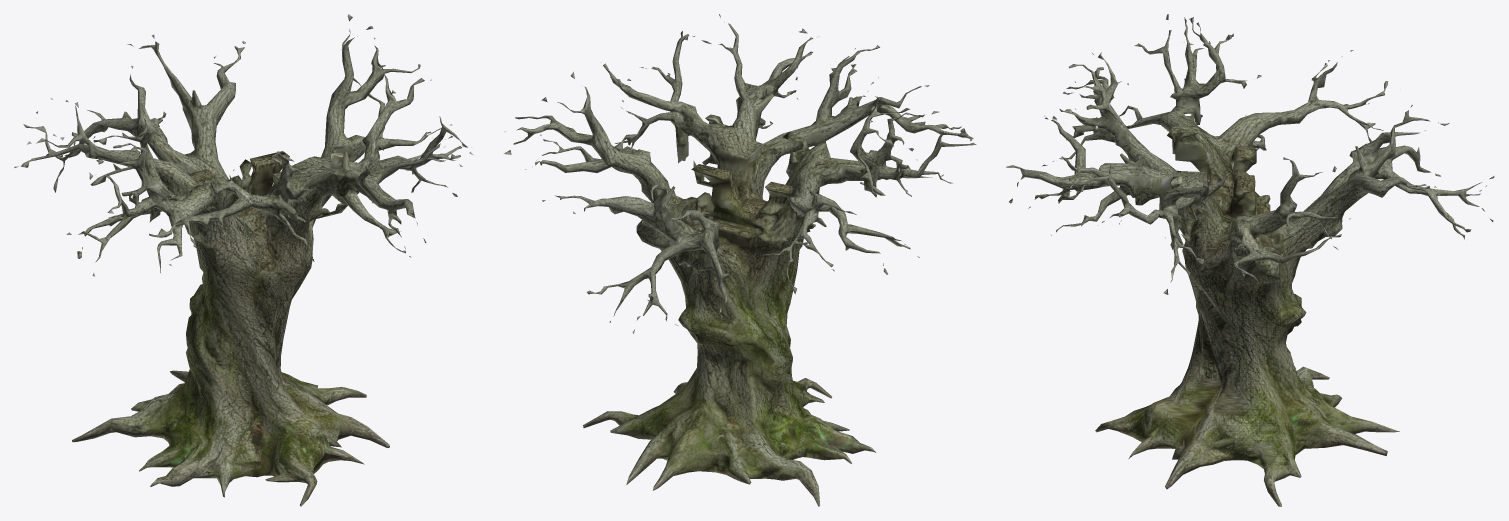
File: dead_oak.glb
The picture shows the model from 3 angles, left to right: view 1: azimuth 30°, elevation 25°; view 2: azimuth 150°, elevation 25°; view 3: azimuth 270°, elevation 25°; orthographic projection. The views are drawn at different scales.
Size of the model in its own units: 0.9013 by 0.8083 by 0.9877.
1 material, 1 textured.
